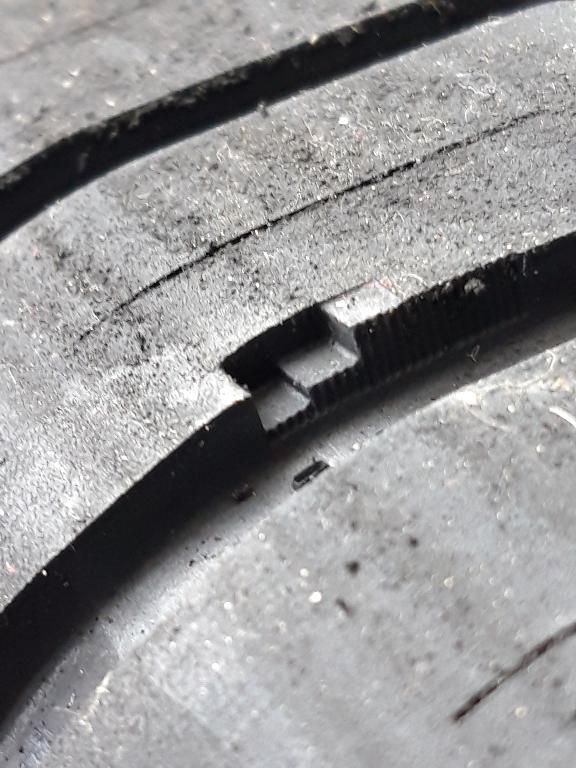temoin:50: (206, 272, 427, 462)
